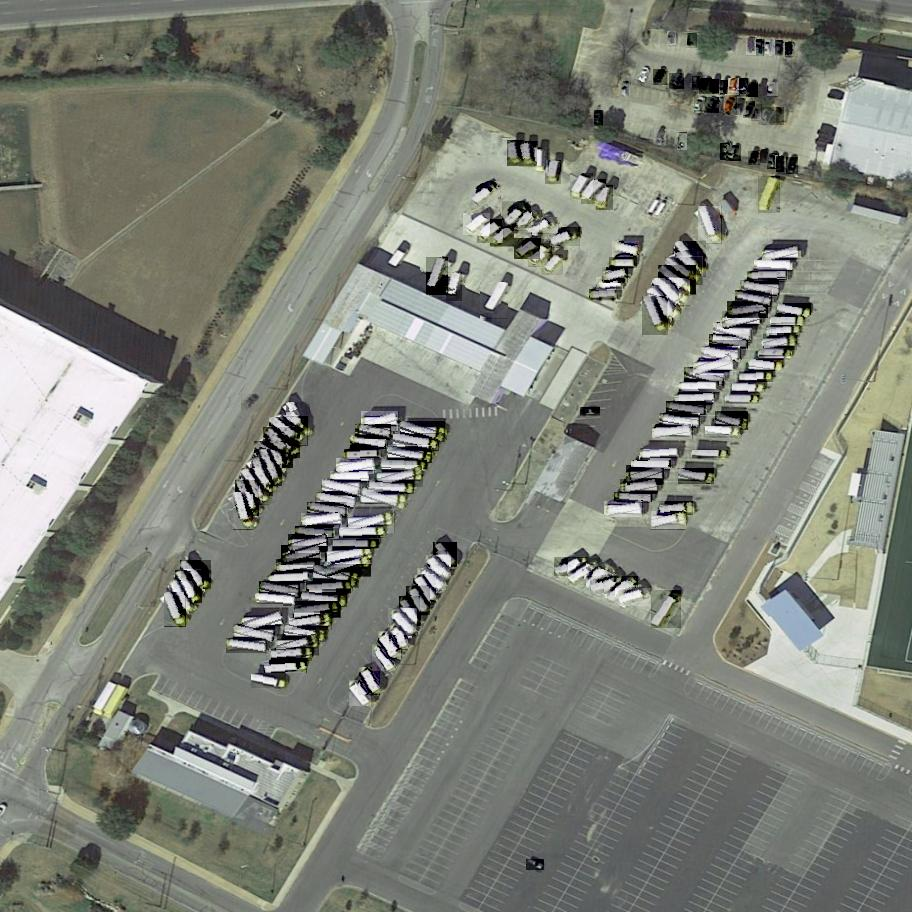large-vehicle: (659, 265, 697, 298), (269, 416, 308, 447), (264, 427, 301, 459), (676, 241, 707, 279), (361, 486, 410, 510), (325, 553, 372, 578), (480, 282, 510, 321), (647, 287, 680, 322), (652, 278, 690, 308), (652, 590, 681, 629), (313, 565, 360, 589), (348, 509, 395, 533), (666, 256, 703, 286), (241, 469, 270, 507), (255, 441, 294, 469), (642, 295, 668, 336), (400, 421, 447, 443), (376, 465, 423, 487), (257, 448, 282, 489), (242, 610, 284, 634), (175, 569, 203, 605), (278, 634, 320, 657), (568, 558, 601, 587), (286, 402, 310, 441), (236, 479, 260, 518), (181, 560, 211, 591), (388, 607, 418, 637), (327, 545, 372, 565), (699, 206, 722, 245), (170, 580, 195, 615), (758, 175, 781, 213), (607, 576, 638, 604), (693, 356, 734, 377), (426, 258, 448, 297), (252, 457, 273, 497), (388, 445, 434, 463), (721, 311, 762, 331), (626, 465, 665, 486), (285, 624, 328, 643), (281, 545, 321, 565), (233, 491, 253, 531), (294, 602, 341, 619), (234, 625, 276, 644), (164, 592, 186, 628), (393, 435, 439, 452), (587, 562, 613, 592), (684, 368, 725, 387), (300, 591, 348, 607), (362, 411, 400, 431), (288, 534, 328, 553), (258, 581, 300, 599), (406, 584, 430, 615), (728, 301, 769, 319), (289, 613, 332, 630), (417, 567, 446, 592), (713, 323, 753, 341), (400, 595, 422, 627), (424, 555, 451, 581), (762, 245, 801, 263), (735, 290, 774, 308), (433, 542, 458, 570), (301, 513, 342, 530), (372, 643, 395, 673), (379, 630, 402, 660), (651, 512, 687, 531), (554, 557, 588, 577), (591, 576, 625, 596), (336, 457, 376, 474), (322, 480, 362, 497), (350, 679, 374, 707), (413, 574, 436, 603), (605, 501, 644, 518), (315, 492, 356, 508), (701, 346, 742, 362), (715, 412, 749, 431), (709, 334, 749, 350), (653, 424, 693, 440), (659, 413, 701, 428), (678, 468, 715, 485), (620, 479, 659, 495), (617, 589, 651, 607), (764, 334, 798, 352), (368, 481, 415, 494), (359, 667, 380, 696), (307, 502, 347, 517), (666, 402, 706, 417), (740, 281, 780, 296), (306, 582, 352, 595), (226, 639, 268, 653), (251, 674, 287, 690), (276, 560, 317, 574), (675, 392, 715, 406), (264, 661, 307, 674), (355, 425, 392, 440), (255, 594, 296, 607), (271, 649, 312, 662), (350, 435, 387, 449), (391, 622, 408, 652), (295, 526, 334, 539), (447, 272, 463, 303), (340, 527, 385, 538), (660, 502, 695, 516), (766, 325, 801, 339), (269, 572, 309, 584), (639, 449, 679, 461), (778, 303, 812, 317), (748, 359, 784, 372), (381, 461, 427, 471), (614, 492, 653, 503), (334, 539, 378, 548), (330, 472, 369, 482), (748, 272, 787, 282), (705, 427, 740, 438), (771, 315, 805, 326), (739, 371, 773, 382), (755, 260, 790, 270), (679, 382, 717, 391), (344, 449, 378, 459), (590, 289, 617, 301), (631, 460, 670, 468), (732, 383, 764, 392), (726, 395, 759, 403), (693, 450, 728, 457), (760, 349, 791, 356)
small-vehicle: (502, 200, 531, 229), (469, 181, 500, 208), (581, 179, 607, 206), (464, 213, 491, 238), (478, 219, 503, 245), (571, 173, 594, 201), (513, 210, 542, 232), (528, 243, 553, 268), (550, 228, 580, 248), (515, 238, 542, 260), (527, 217, 558, 236), (490, 225, 515, 248), (541, 253, 563, 277), (507, 140, 526, 167), (596, 184, 614, 212), (520, 142, 538, 169), (612, 241, 640, 258), (596, 277, 624, 293), (602, 268, 630, 284), (545, 160, 562, 185), (242, 393, 263, 412), (535, 147, 549, 173), (760, 106, 777, 126), (769, 107, 785, 127), (723, 96, 739, 116), (609, 257, 637, 268), (704, 97, 720, 115), (637, 67, 652, 86), (653, 69, 668, 87), (669, 73, 684, 91), (727, 144, 742, 161), (526, 860, 544, 874), (700, 78, 714, 95), (752, 105, 765, 123), (743, 102, 756, 120), (728, 78, 741, 96), (654, 128, 666, 147), (786, 156, 798, 175), (734, 98, 746, 116), (715, 96, 727, 114), (746, 37, 757, 56), (746, 82, 759, 98), (767, 153, 779, 170), (677, 133, 688, 151), (766, 39, 777, 56), (749, 151, 761, 166), (767, 83, 779, 98), (695, 97, 706, 113), (668, 32, 679, 47), (594, 110, 603, 126), (721, 144, 730, 160), (759, 150, 769, 164), (580, 408, 600, 415), (785, 42, 794, 57), (740, 79, 749, 94), (693, 77, 703, 90), (622, 82, 630, 98), (777, 156, 785, 172), (775, 40, 783, 55), (757, 40, 764, 56), (688, 34, 696, 47), (720, 80, 727, 94), (712, 80, 719, 93)
